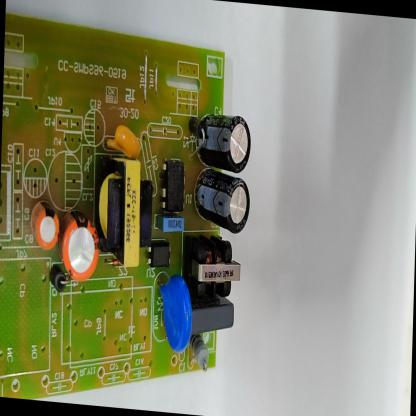Cap1: (57, 202, 102, 286)
Cap2: (28, 195, 62, 256)
Cap3: (192, 167, 254, 239)
Cap4: (194, 100, 254, 176)
MOSFET: (158, 156, 188, 218)
Mov: (156, 268, 194, 358)
Resistor: (190, 334, 211, 371)
Transformer: (92, 144, 156, 276), (192, 234, 244, 304)
